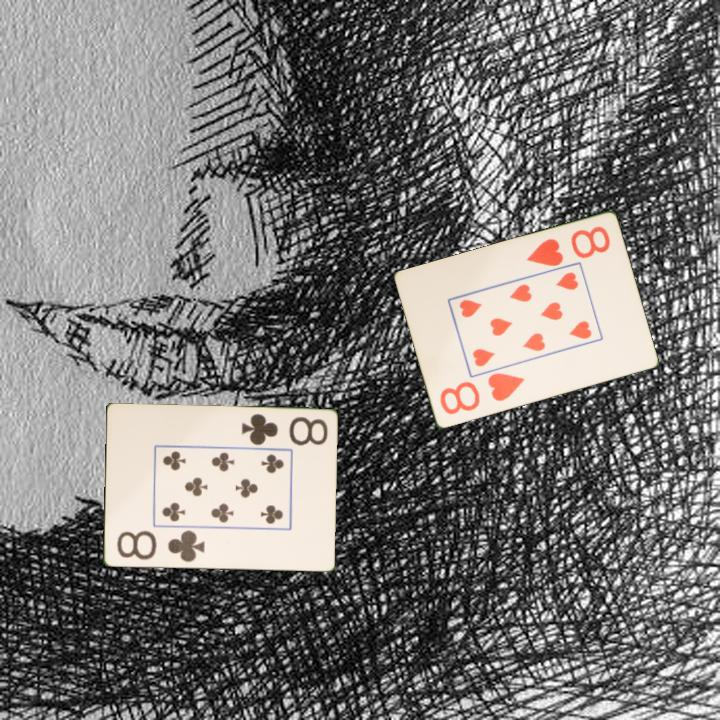8c: (113, 527, 207, 565), (238, 411, 331, 449)
8h: (436, 369, 527, 418), (523, 223, 613, 270)
